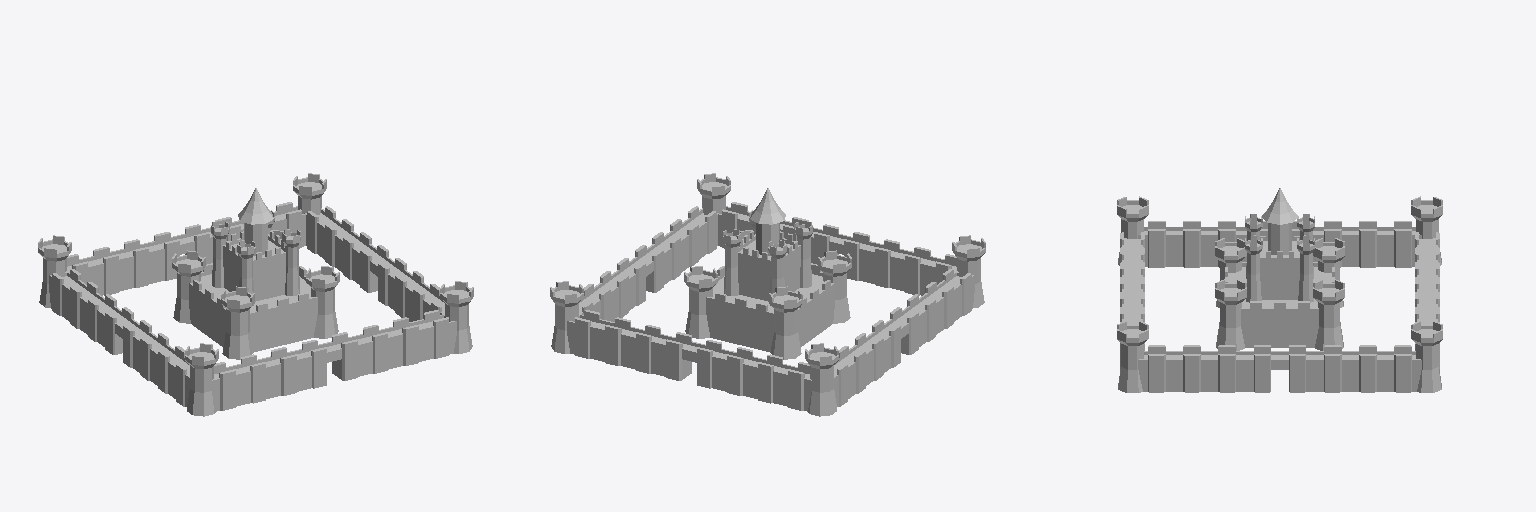
File: Castle Export.obj
3 views of the same model, side by side, from view 1: azimuth 30°, elevation 25°; view 2: azimuth 150°, elevation 25°; view 3: azimuth 270°, elevation 25° (orthographic).
Visible parts, largest first — view 1: Castle_Wall_UV1, Keep_UV, Castle_Wall_UV3, Castle_Wall_UV2, Castle_Wall_UV, Corner_Tower_UV7, Corner_Tower_UV1, Corner_Tower_UV6, Corner_Tower_UV2, Corner_Tower_UV4, Corner_Tower_UV, Corner_Tower_UV3 (+5 smaller); view 2: Castle_Wall_UV, Keep_UV, Castle_Wall_UV3, Castle_Wall_UV2, Castle_Wall_UV1, Corner_Tower_UV4, Corner_Tower_UV, Corner_Tower_UV5, Corner_Tower_UV3, Corner_Tower_UV7, Corner_Tower_UV1, Corner_Tower_UV2 (+5 smaller); view 3: Castle_Wall_UV2, Castle_Wall_UV3, Keep_UV, Castle_Wall_UV, Castle_Wall_UV1, Corner_Tower_UV5, Corner_Tower_UV6, Corner_Tower_UV2, Corner_Tower_UV3, Corner_Tower_UV1, Corner_Tower_UV, Keep_Corner_Tower2 (+5 smaller).
Boxes of the visible parts, box(x1,y1,x2,y2) form: Castle_Wall_UV1: box(212, 310, 456, 411); Keep_UV: box(189, 230, 317, 351); Castle_Wall_UV3: box(49, 269, 189, 406); Castle_Wall_UV2: box(304, 206, 444, 321); Castle_Wall_UV: box(65, 202, 306, 295); Corner_Tower_UV7: box(221, 286, 254, 359); Corner_Tower_UV1: box(185, 343, 218, 416); Corner_Tower_UV6: box(306, 266, 339, 338); Corner_Tower_UV2: box(440, 281, 473, 353); Corner_Tower_UV4: box(172, 250, 205, 323); Corner_Tower_UV: box(38, 235, 71, 307); Corner_Tower_UV3: box(293, 173, 326, 214); Castle_Wall_UV: box(567, 310, 811, 411); Keep_UV: box(706, 230, 834, 351); Castle_Wall_UV3: box(834, 269, 974, 406); Castle_Wall_UV2: box(579, 206, 719, 321); Castle_Wall_UV1: box(718, 202, 958, 295); Corner_Tower_UV4: box(769, 286, 802, 359); Corner_Tower_UV: box(805, 343, 838, 416); Corner_Tower_UV5: box(684, 266, 717, 338); Corner_Tower_UV3: box(550, 281, 583, 353); Corner_Tower_UV7: box(818, 250, 851, 323); Corner_Tower_UV1: box(952, 235, 985, 307); Corner_Tower_UV2: box(697, 173, 730, 214); Castle_Wall_UV2: box(1138, 345, 1421, 392); Castle_Wall_UV3: box(1138, 221, 1421, 267); Keep_UV: box(1225, 230, 1334, 347); Castle_Wall_UV: box(1415, 232, 1439, 368); Castle_Wall_UV1: box(1120, 232, 1144, 368); Corner_Tower_UV5: box(1313, 279, 1344, 350); Corner_Tower_UV6: box(1215, 279, 1246, 350); Corner_Tower_UV2: box(1117, 321, 1148, 392); Corner_Tower_UV3: box(1411, 321, 1442, 392); Corner_Tower_UV1: box(1117, 196, 1148, 265); Corner_Tower_UV: box(1411, 196, 1442, 265); Keep_Corner_Tower2: box(1245, 236, 1262, 302).
Size of the model in its own units: 26.62 by 12.41 by 26.62.